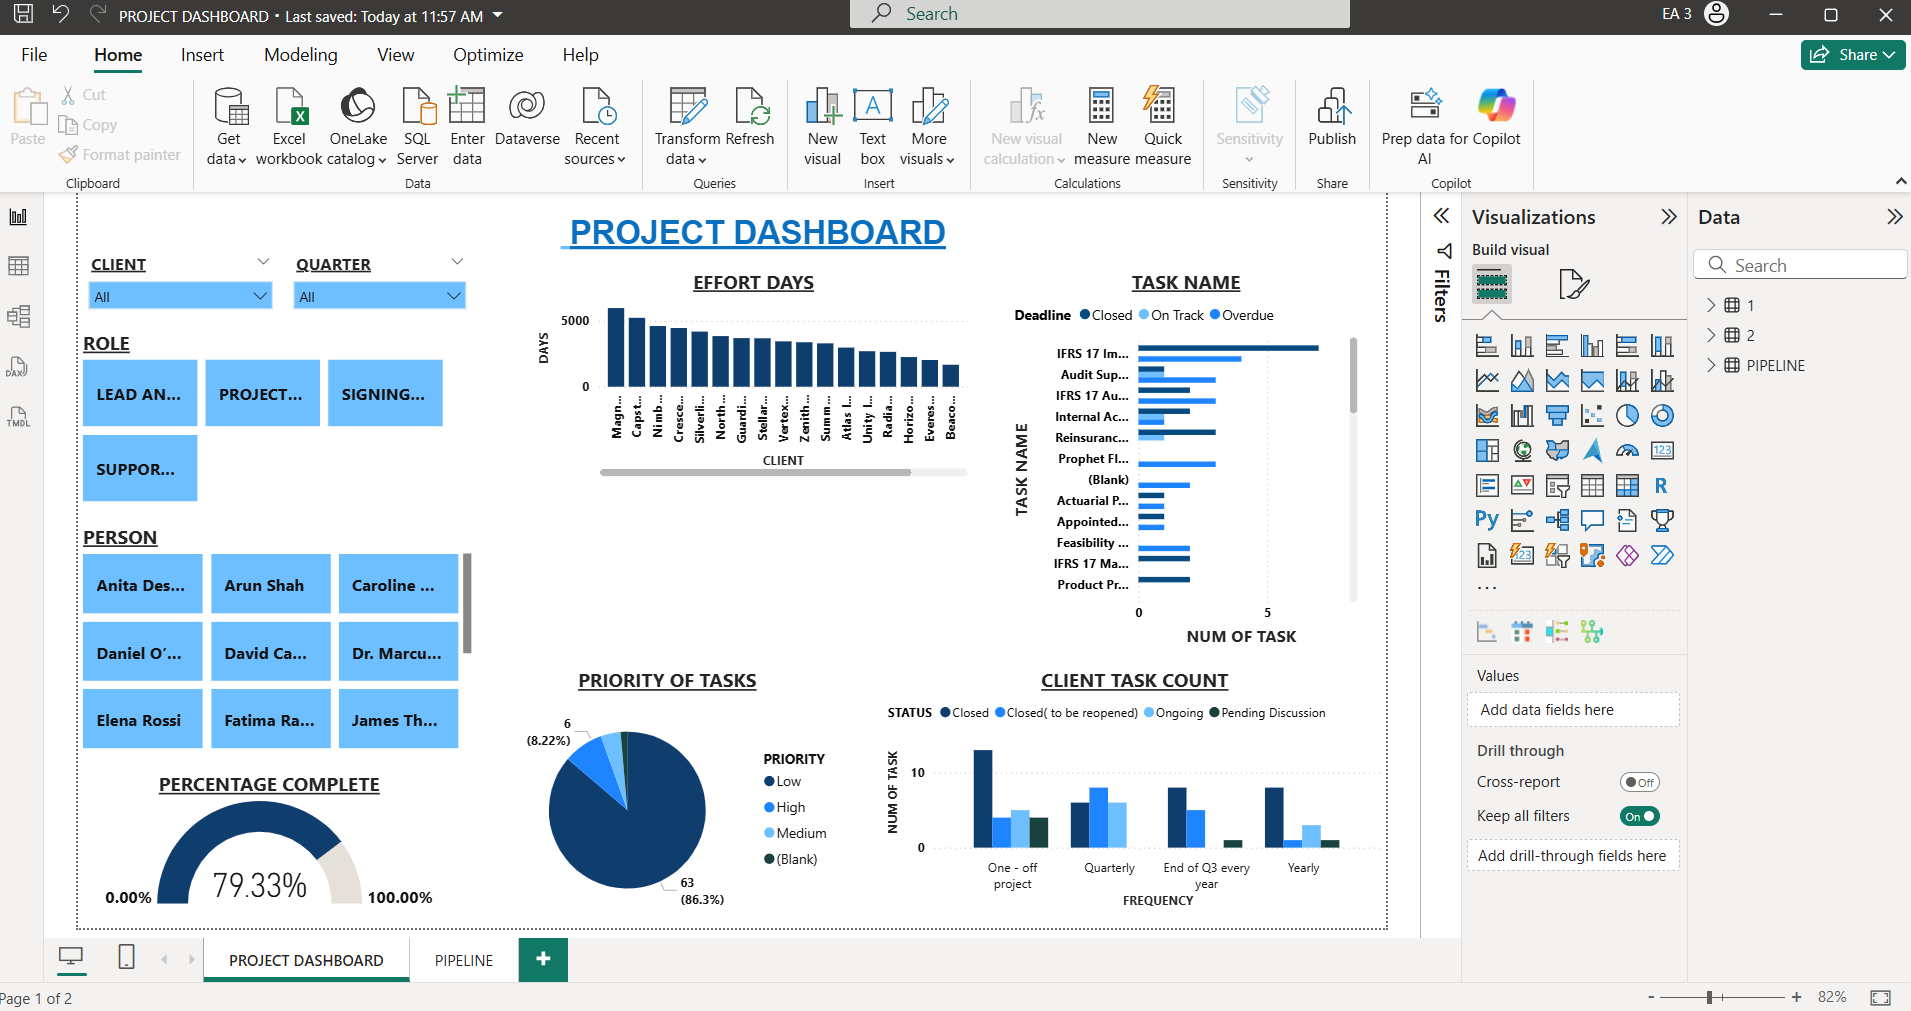

The dashboard page shown, as its layout file describes it:
{"tool":"powerbi","page":{"name":"PROJECT DASHBOARD","canvas":[1280,720],"ordinal":0},"visuals":[{"type":"advancedSlicerVisual","title":"PERSON","fields":{"Values":["Active Projects.Person"]},"box":[0,324.1,390.1,227.4],"z":0},{"type":"gauge","title":"PERCENTAGE COMPLETE ","fields":{"Y":["Avg(PROJECTS.PERCENTAGE COMPLETE )"]},"box":[0,565.7,374.3,140],"z":1000},{"type":"advancedSlicerVisual","title":"ROLE","fields":{"Values":["Active Projects.Role"]},"box":[0,134.5,364.4,173.6],"z":2000},{"type":"pieChart","title":"PRIORITY OF TASKS","fields":{"Y":["CountNonNull(PROJECTS.TASK NAME)"],"Category":["PROJECTS.PRIORITY"]},"box":[435.3,463.5,317.9,256.8],"z":3000},{"type":"columnChart","title":"EFFORT DAYS ","fields":{"Category":["PROJECTS.CLIENT"],"Y":["Sum(2..EFFORT DAYS)"]},"box":[446.3,74.6,429.2,209.1],"z":4000},{"type":"clusteredColumnChart","title":"CLIENT TASK COUNT","fields":{"Y":["CountNonNull(PROJECTS.TASK NAME)"],"Category":["PROJECTS.FREQUENCY"],"Series":["2..STATUS"]},"box":[787.5,464.7,492.8,240.9],"z":5000},{"type":"clusteredBarChart","title":"TASK NAME","fields":{"Category":["PROJECTS.TASK NAME"],"Y":["CountNonNull(PROJECTS.CLIENT)"],"Series":["2..DeadlineStatus"]},"box":[911,74.6,346.1,374.2],"z":6000},{"type":"textbox","box":[467.1,0,476.9,63.6],"z":7000},{"type":"slicer","fields":{"Values":["2..Quarter"]},"box":[200.5,53.8,189.5,67.3],"z":8000},{"type":"slicer","fields":{"Values":["2..CLIENT"]},"box":[0,53.8,200.5,67.3],"z":9000}]}

Visuals, with their boxes on the page's 1280x720 design canvas (x1, y1, x2, y2). These are canvas units, not pixel positions in the 1911x1011 screenshot, which may show the page scaled, cropped or inside an application window:
"PERSON" advancedSlicerVisual: rect(0, 324, 390, 552)
"PERCENTAGE COMPLETE " gauge: rect(0, 566, 374, 706)
"ROLE" advancedSlicerVisual: rect(0, 134, 364, 308)
"PRIORITY OF TASKS" pieChart: rect(435, 464, 753, 720)
"EFFORT DAYS " columnChart: rect(446, 75, 876, 284)
"CLIENT TASK COUNT" clusteredColumnChart: rect(788, 465, 1280, 706)
"TASK NAME" clusteredBarChart: rect(911, 75, 1257, 449)
textbox: rect(467, 0, 944, 64)
slicer - 2..Quarter: rect(200, 54, 390, 121)
slicer - 2..CLIENT: rect(0, 54, 200, 121)
